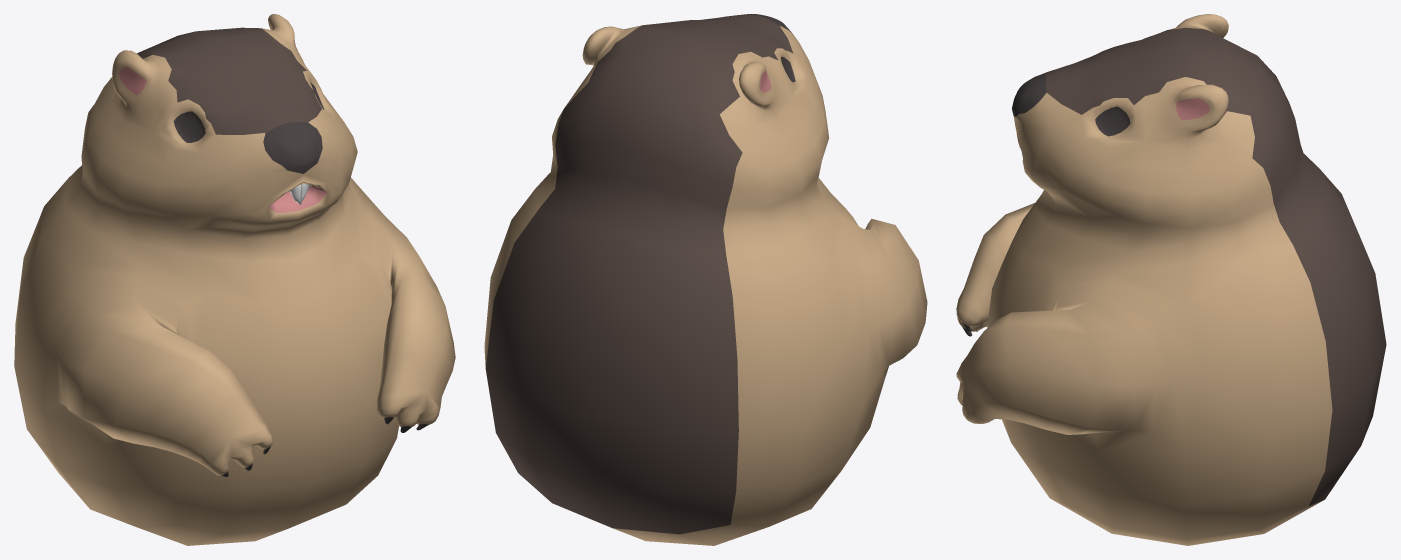
File: prairie-dog-BwjOfuJ4.glb
3 renders of one model, left to right at view 1: azimuth 30°, elevation 25°; view 2: azimuth 150°, elevation 25°; view 3: azimuth 270°, elevation 25°, orthographic. The views are drawn at different scales.
Parts seen in each view (by area): view 1: Cube; view 2: Cube; view 3: Cube.
Boxes of the visible parts, x1=… form: Cube: x1=14, y1=14, x2=455, y2=545; Cube: x1=484, y1=14, x2=927, y2=545; Cube: x1=956, y1=14, x2=1386, y2=545.
Size of the model in its own units: 0.2902 by 0.3718 by 0.3032.
